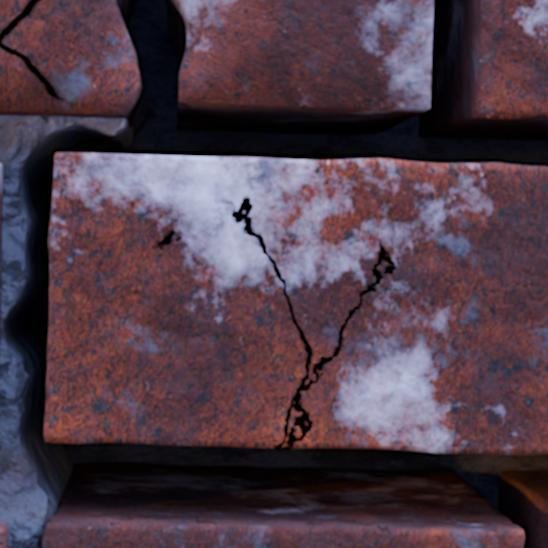brick: (45, 154, 547, 453), (43, 517, 523, 547), (472, 0, 547, 118), (0, 164, 2, 282), (0, 522, 7, 547)
broken_brick: (178, 0, 432, 112), (0, 0, 137, 119), (0, 0, 27, 29)
crack: (0, 0, 547, 547), (0, 0, 66, 102), (37, 533, 44, 547)
